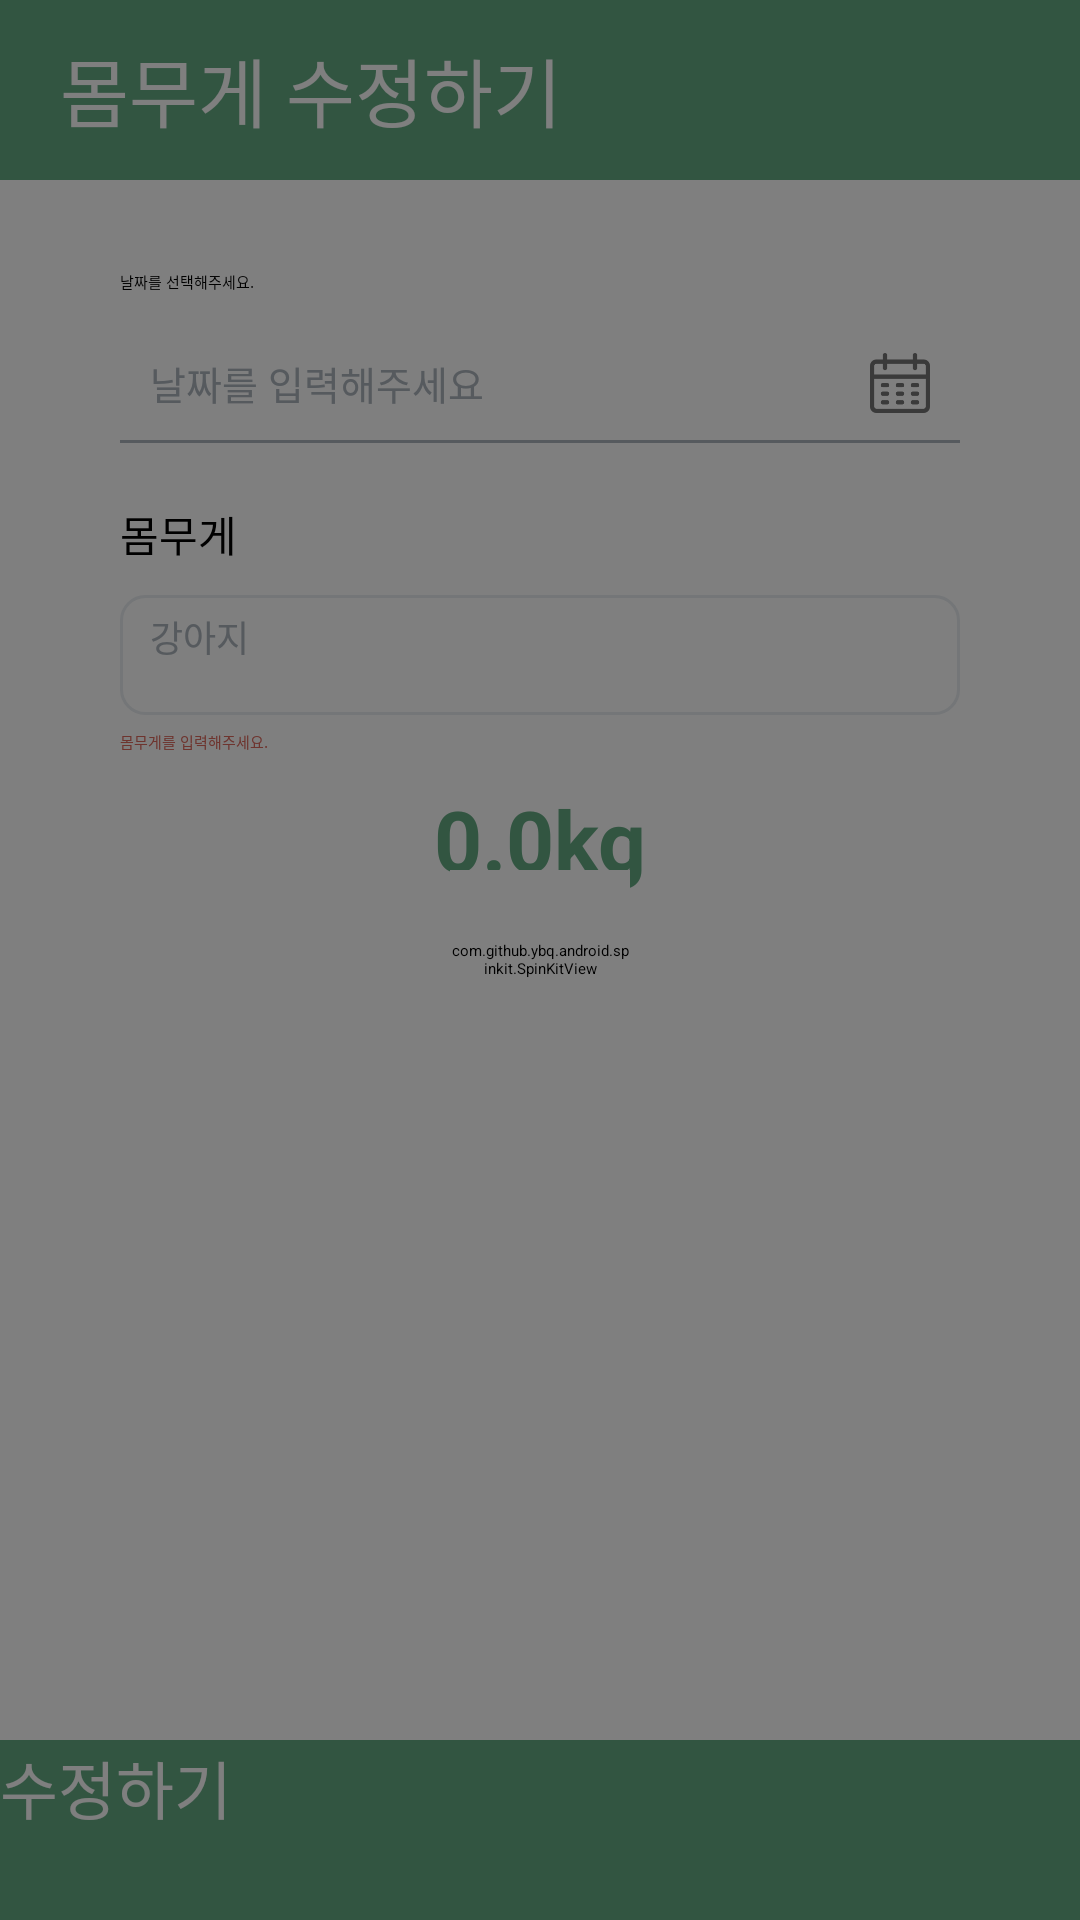

Named icons in this screenshot (1080×1920) and their bounding boxes, box(x1, y1, x2, y2):
calendar: box(870, 353, 930, 413)
